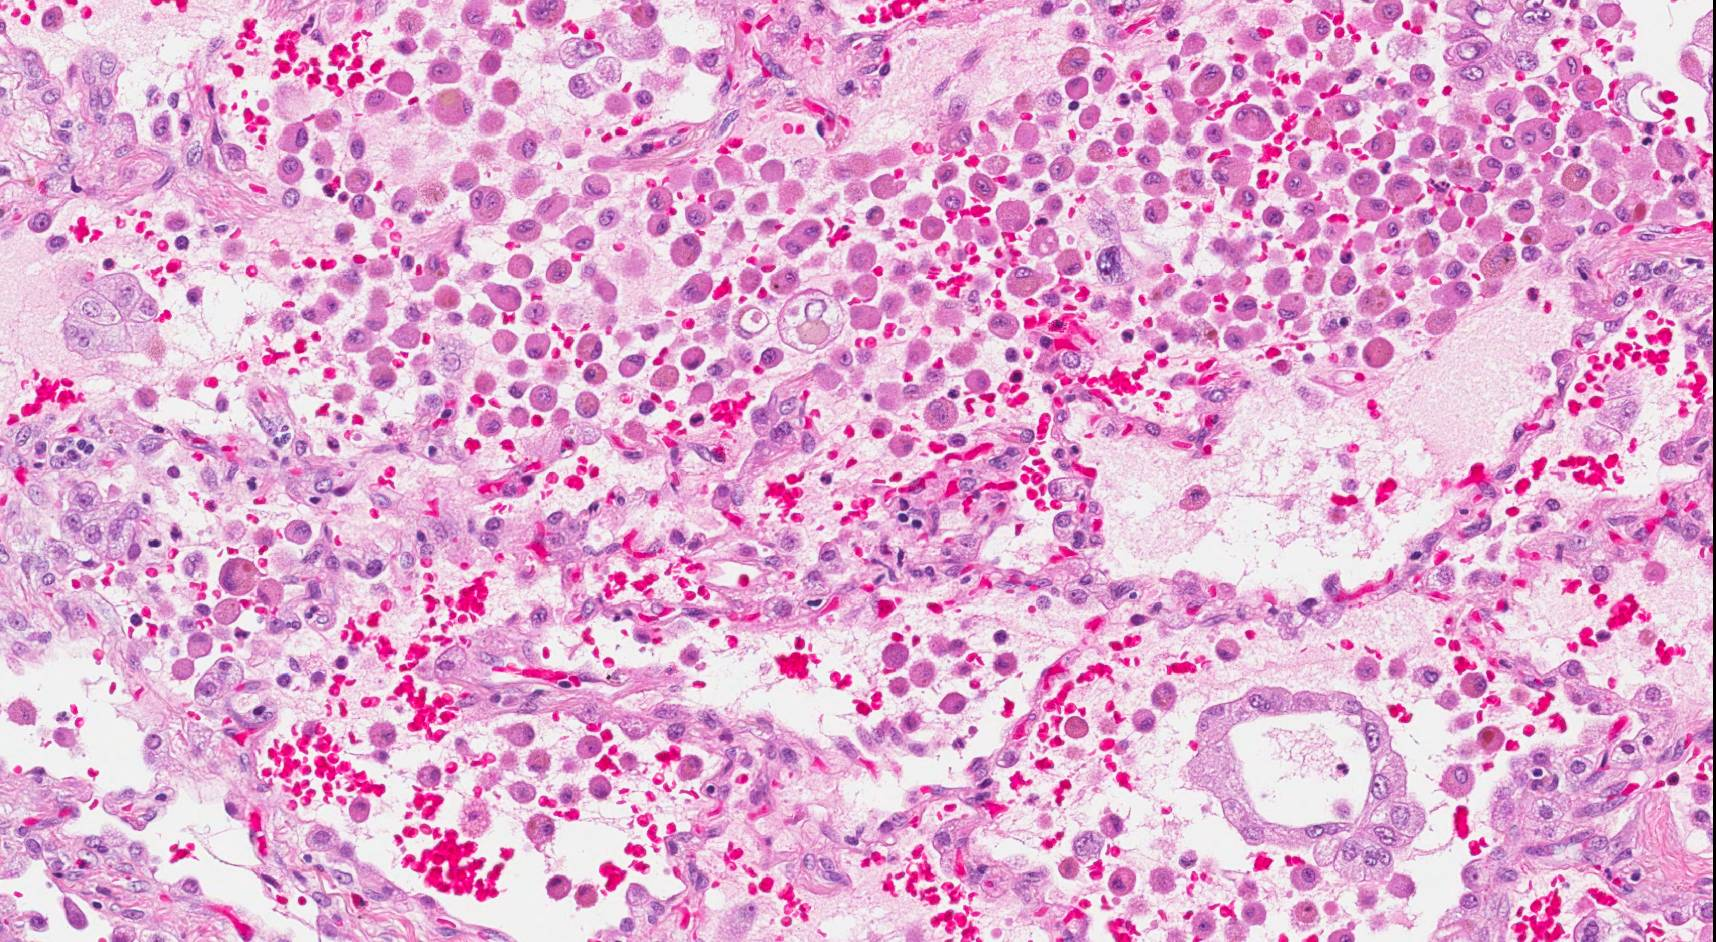stas: (1193, 682, 1429, 887), (61, 270, 172, 361)
